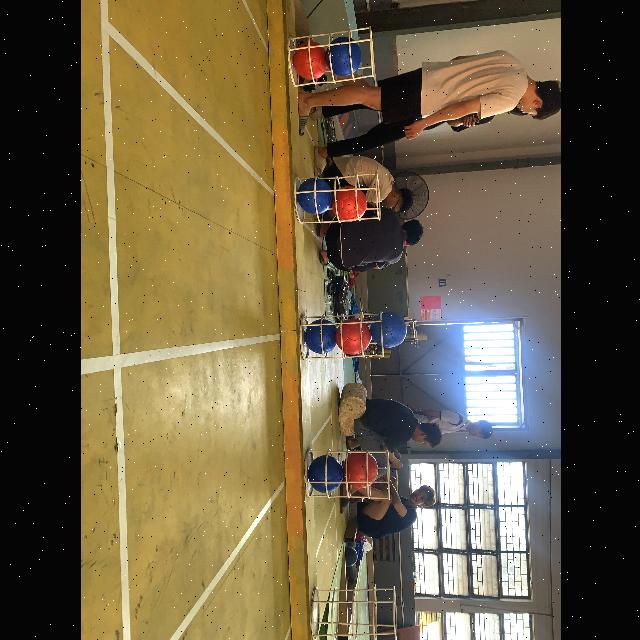B: (324, 36, 360, 76), (306, 455, 342, 493), (369, 312, 406, 348), (296, 178, 330, 215), (304, 320, 338, 354)
R: (292, 41, 326, 80), (330, 186, 366, 222), (344, 452, 378, 490), (334, 320, 370, 354)
